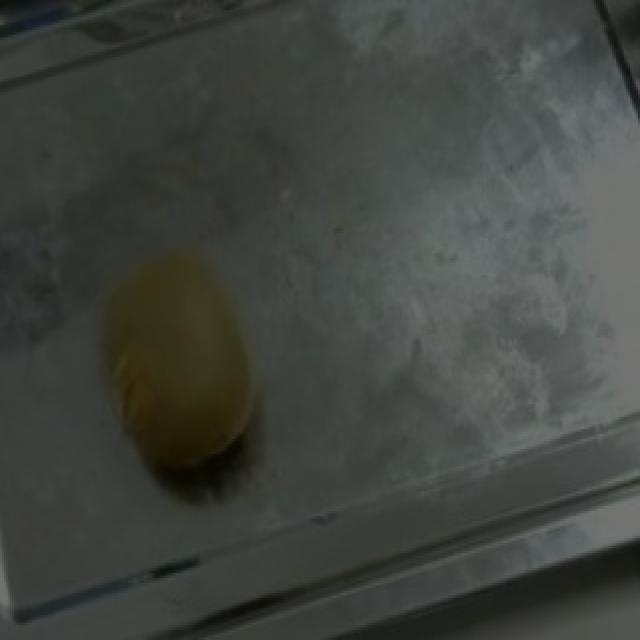Fruit: (54, 236, 294, 514)
